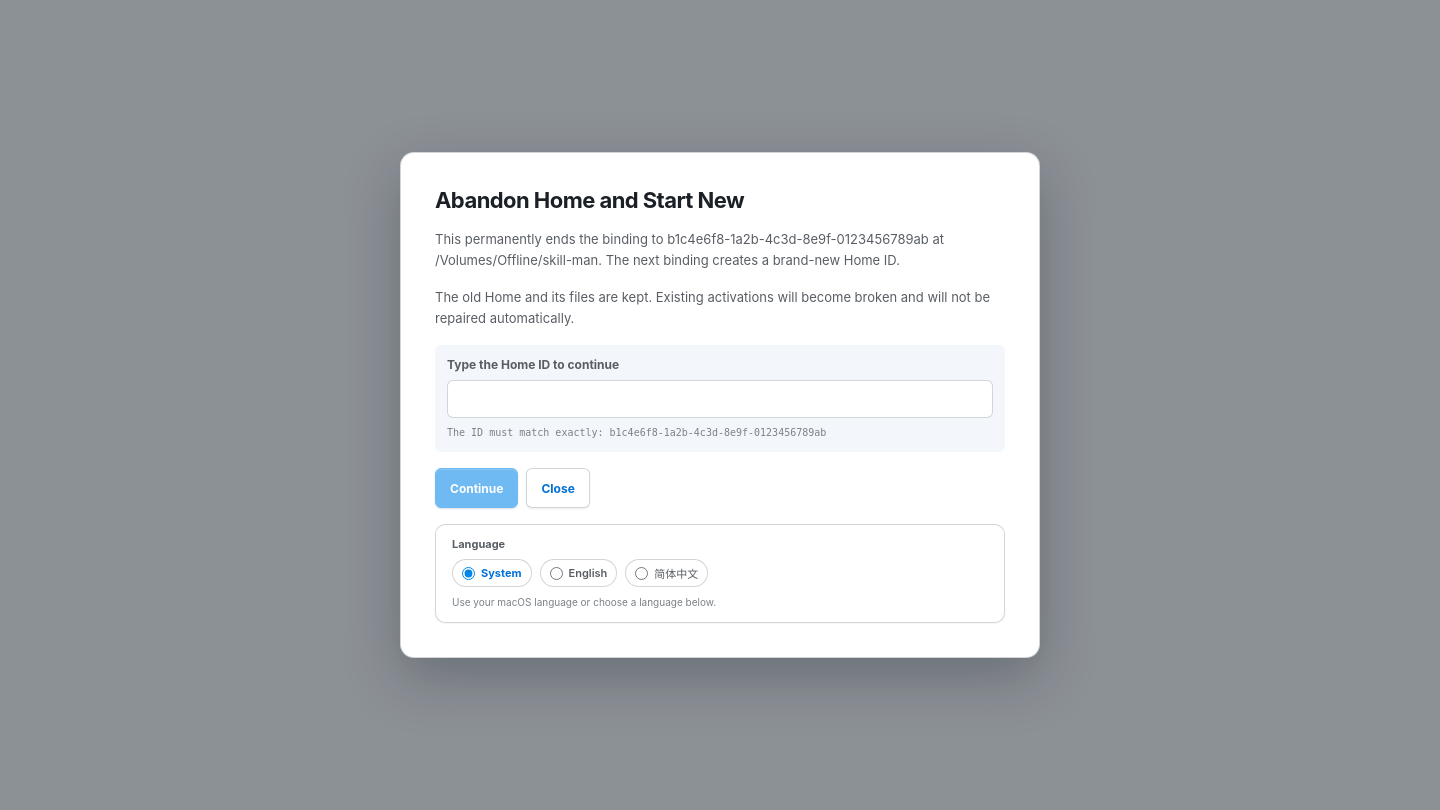
Test: the typed Home ID must match exactly before Continue enables
Expected: the text "The ID must match exactly" is shown, [447,427,826,438]
Expected: the button "Continue" is disabled, [435,468,518,508]
Type "b1c4e6f8-1a2b-4c3d-8e9f-0123456789ac" into the field labelled "Type the Home ID to continue". click: coordinates (720, 399)
box: [447,380,993,418]
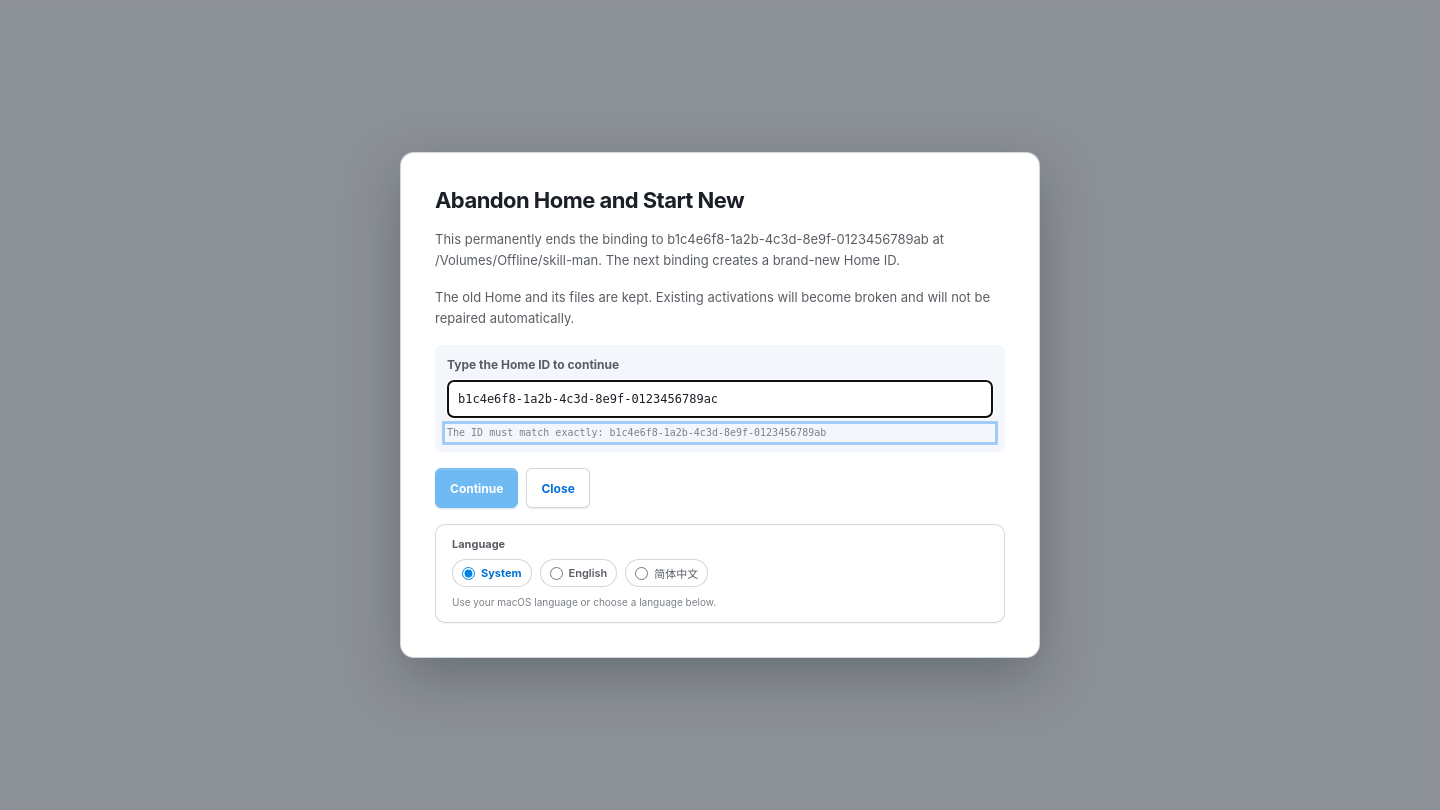
Expected: the button "Continue" is disabled, [435,468,518,508]
Replace the text in the field labelled "Type the Home ID to continue" with "b1c4e6f8-1a2b-4c3d-8e9f-0123456789ab". click: coordinates (720, 399)
box: [447,380,993,418]
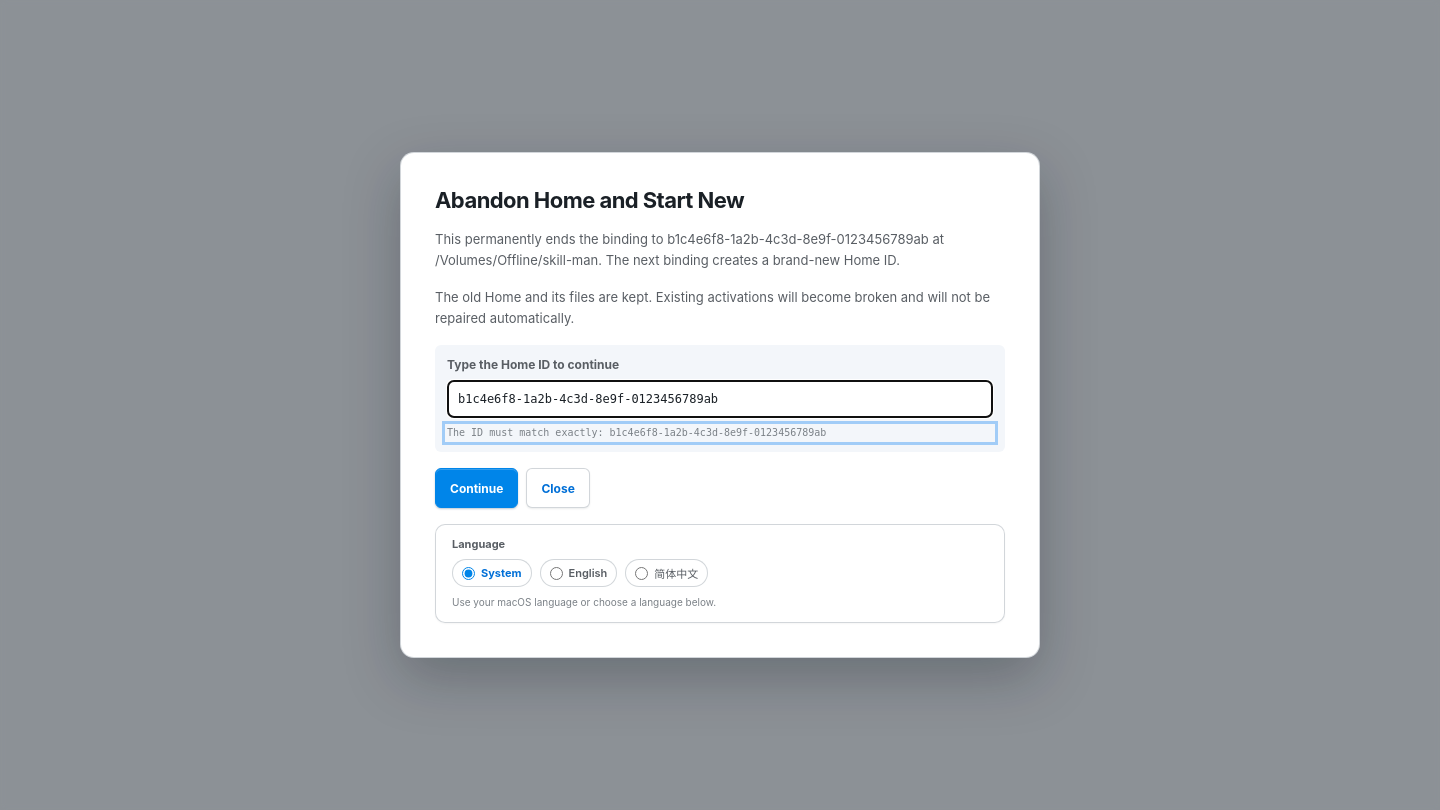
Now the button "Continue" is enabled, box [435,468,518,508]
